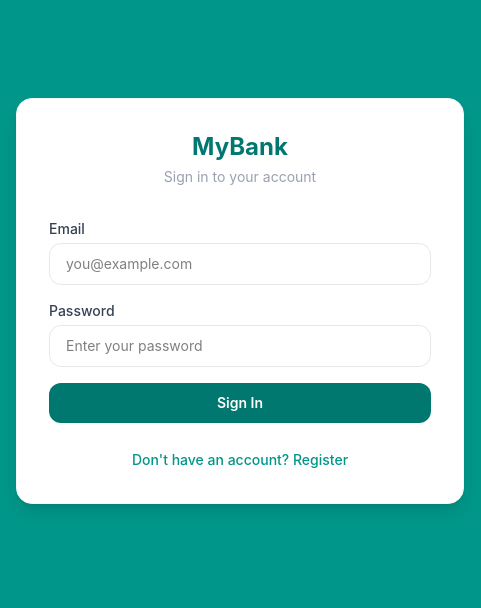
Test: Login - Register mode › switches to register mode and shows extra fields
The image size is (481, 608).
Click the button "Don't have an account? Register" at (240, 460), box [132,450,348,470]
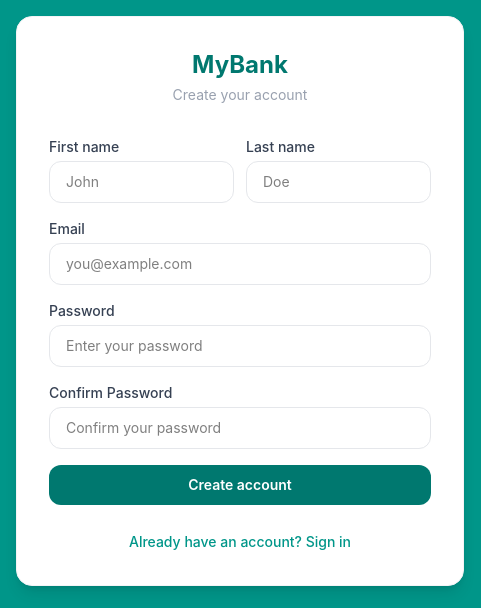
Expected: the field with placeholder "John" is shown, [49,161,234,203]
Expected: the field with placeholder "Doe" is shown, [246,161,431,203]
Expected: the password field with placeholder "Confirm your password" is shown, [49,407,431,449]
